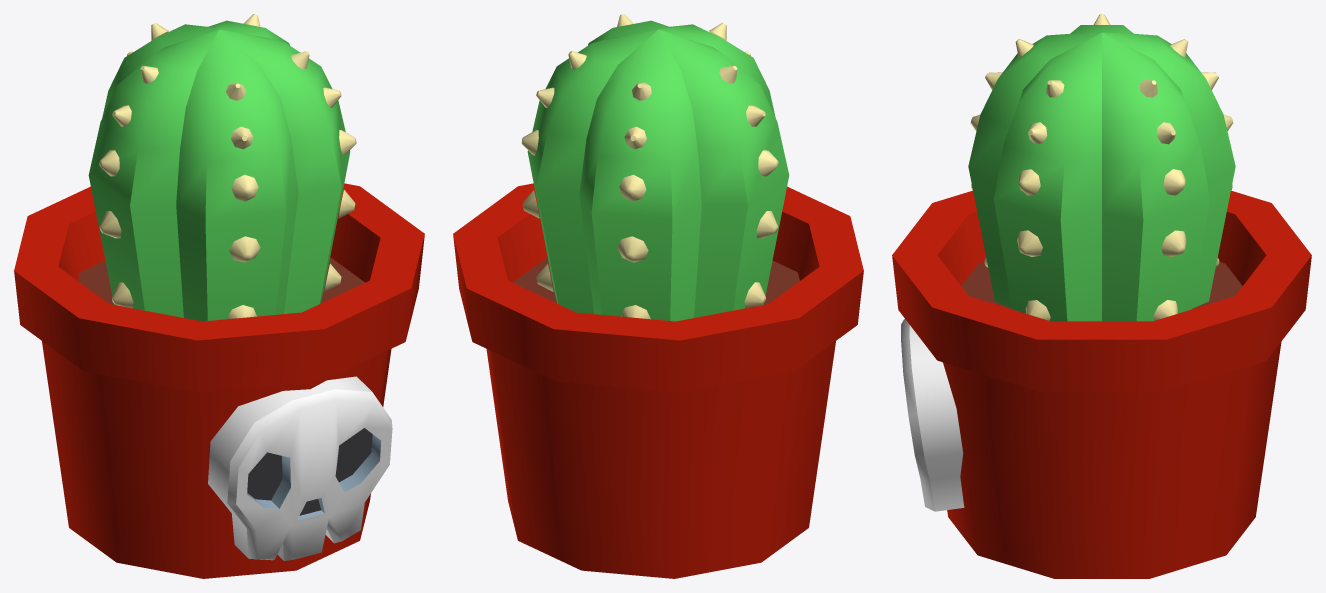
Rendered from CacteeSingle.fbx.
The picture shows the model from 3 angles, left to right: view 1: azimuth 30°, elevation 25°; view 2: azimuth 150°, elevation 25°; view 3: azimuth 270°, elevation 25°; orthographic projection.
Visible parts, largest first — view 1: Cactus.Single; view 2: Cactus.Single; view 3: Cactus.Single.
Part boxes in pixels (<box>): Cactus.Single: <box>14,14,424,578</box>; Cactus.Single: <box>453,14,863,578</box>; Cactus.Single: <box>892,14,1311,578</box>.
Size of the model in its own units: 268 by 358 by 282.
